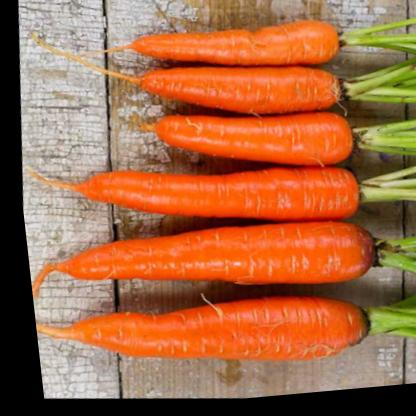carrot: (19, 195, 404, 321), (26, 269, 398, 394), (22, 139, 374, 255), (97, 45, 364, 138), (122, 97, 373, 193), (90, 0, 355, 88)
